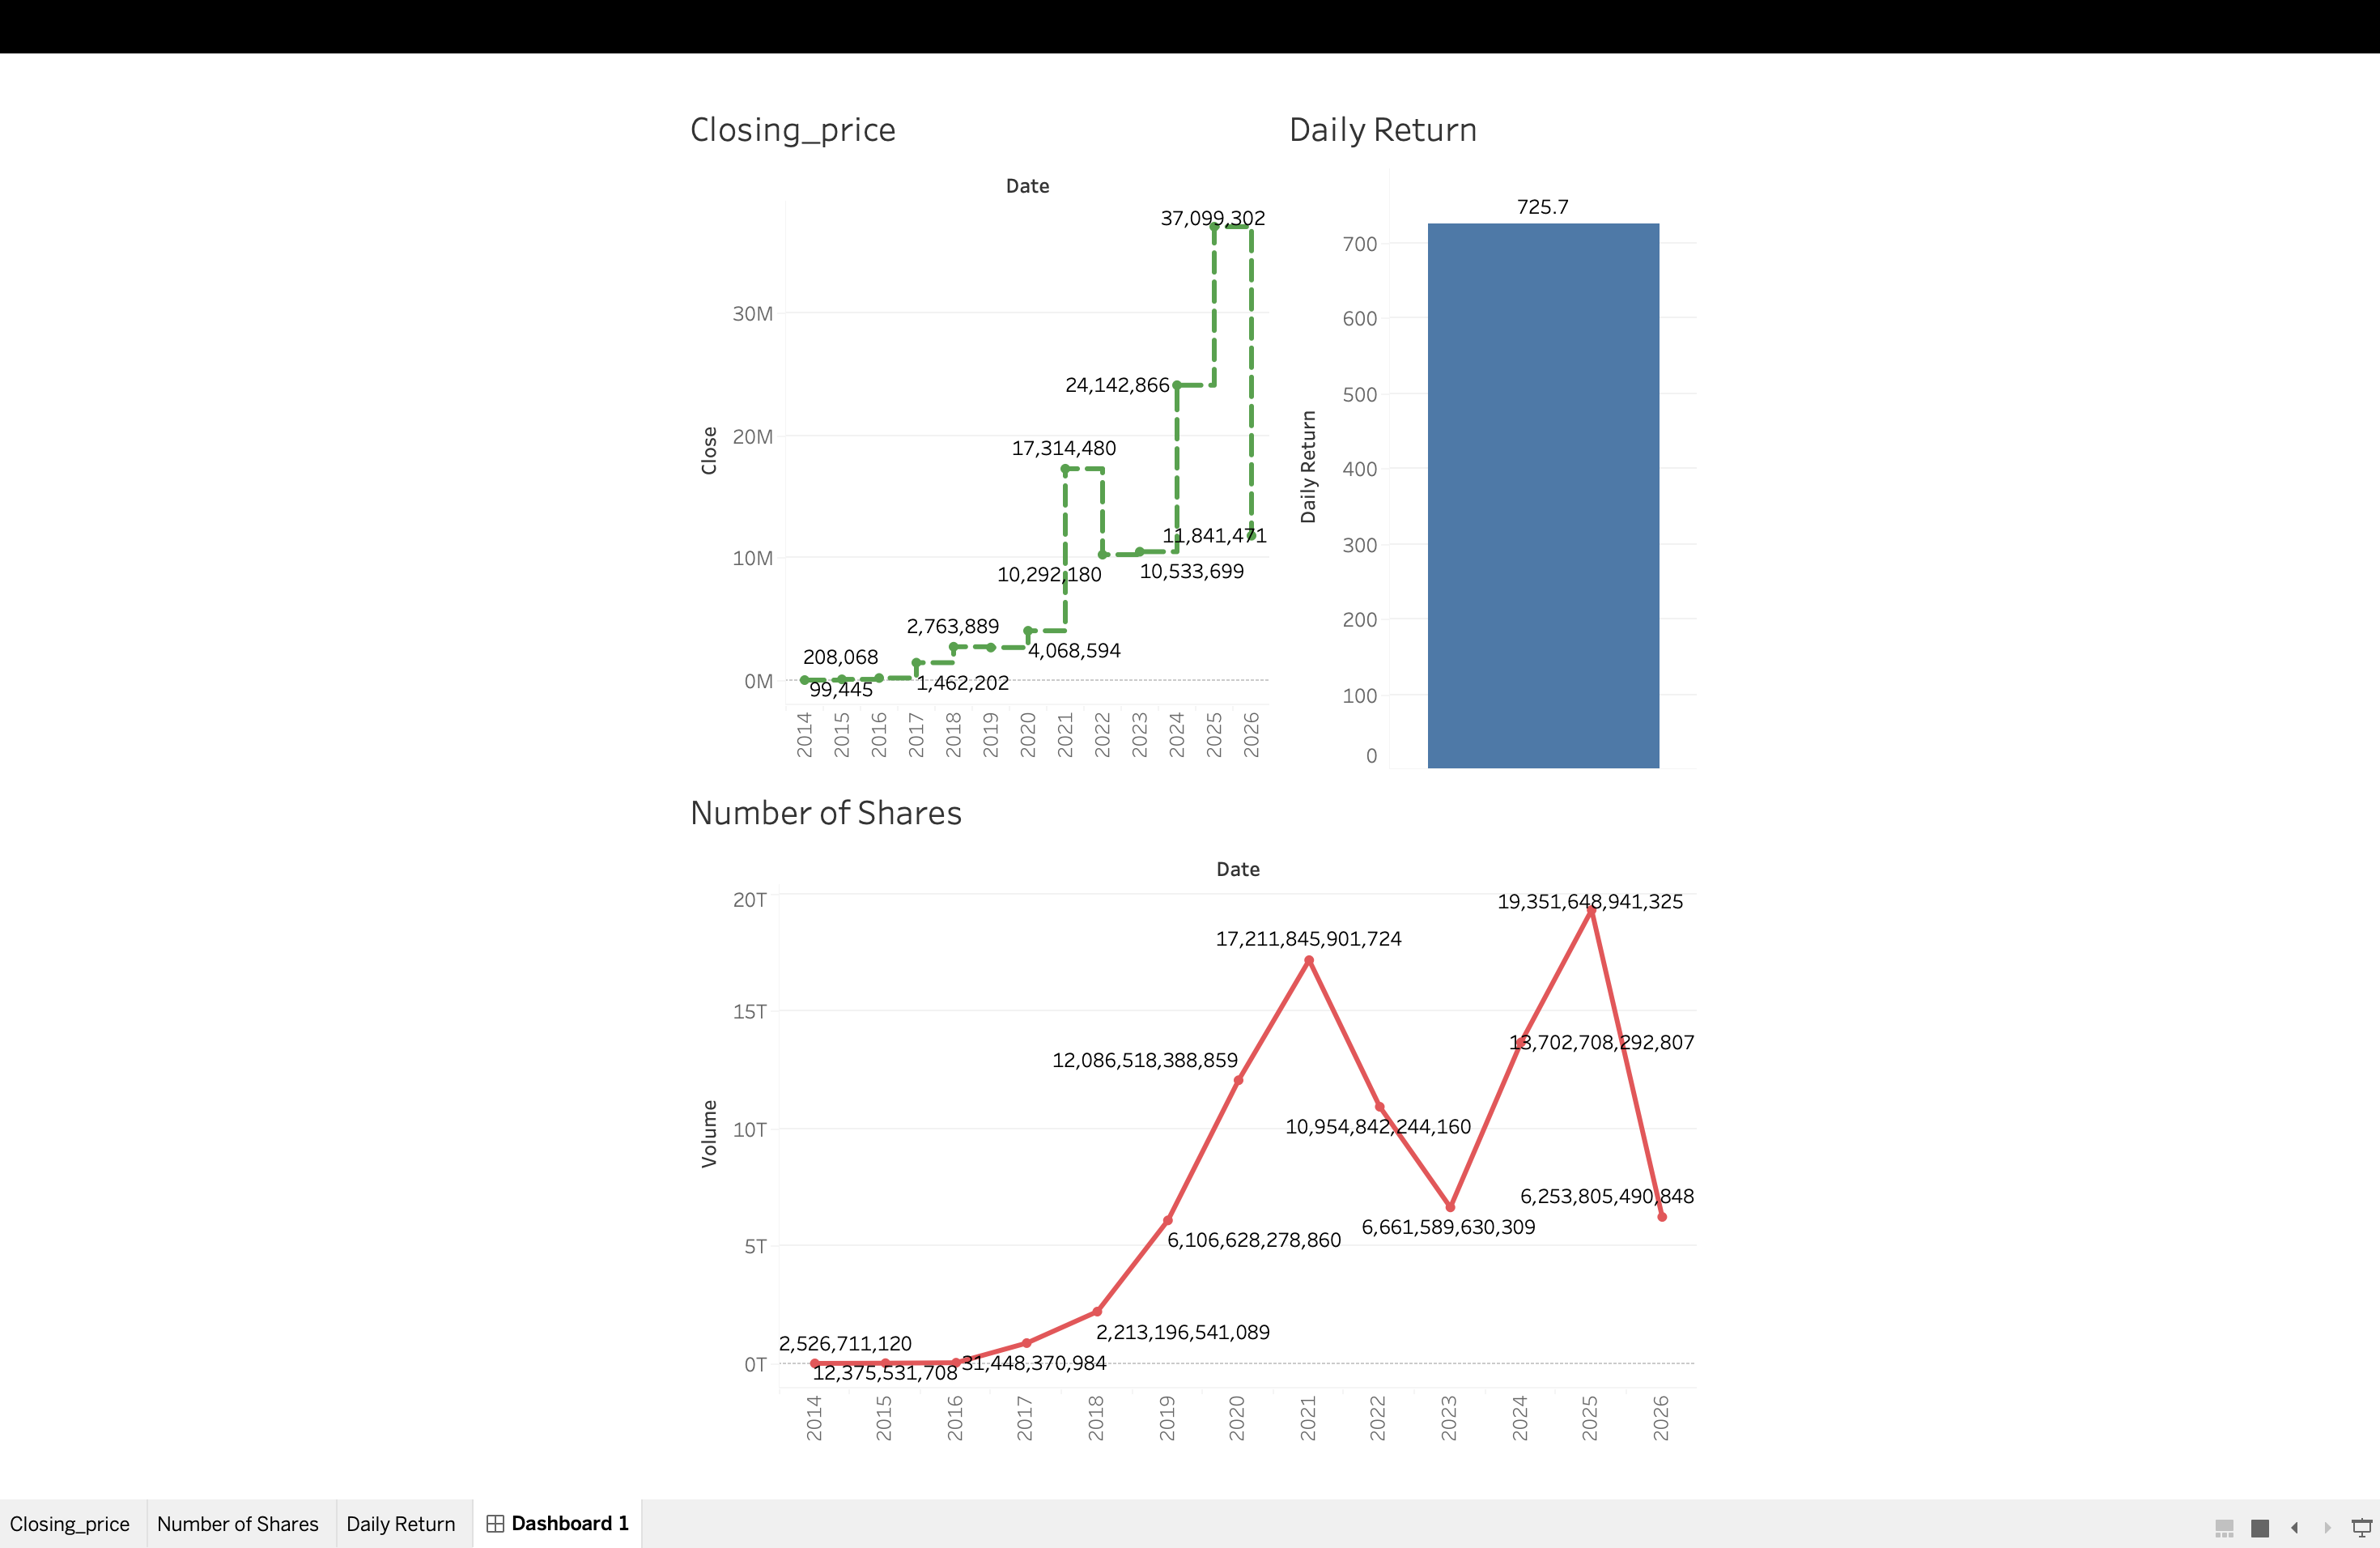

Layout of this report page (visuals, bound fields, positions):
{"tool":"tableau","page":{"name":"Dashboard 1","canvas":[650,860],"ordinal":0},"visuals":[{"type":"worksheet","title":"Closing_price","mark":"Automatic","rows":["Close"],"cols":["Date"],"box":[8,8.6,370,421.4]},{"type":"worksheet","title":"Daily Return","mark":"Bar","rows":["Daily_Return"],"box":[378,8.6,264,421.4]},{"type":"worksheet","title":"Number of Shares","mark":"Automatic","rows":["Volume"],"cols":["Date"],"box":[8,430,634,421.4]}]}

Visuals, with their boxes on the page's 650x860 design canvas (x1, y1, x2, y2). These are canvas units, not pixel positions in the 2380x1548 screenshot, which may show the page scaled, cropped or inside an application window:
"Closing_price" worksheet: [8, 9, 378, 430]
"Daily Return" worksheet (Bar marks): [378, 9, 642, 430]
"Number of Shares" worksheet: [8, 430, 642, 851]
